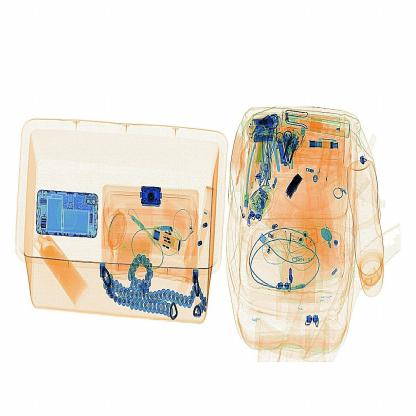scissors: (276, 165, 309, 201)
